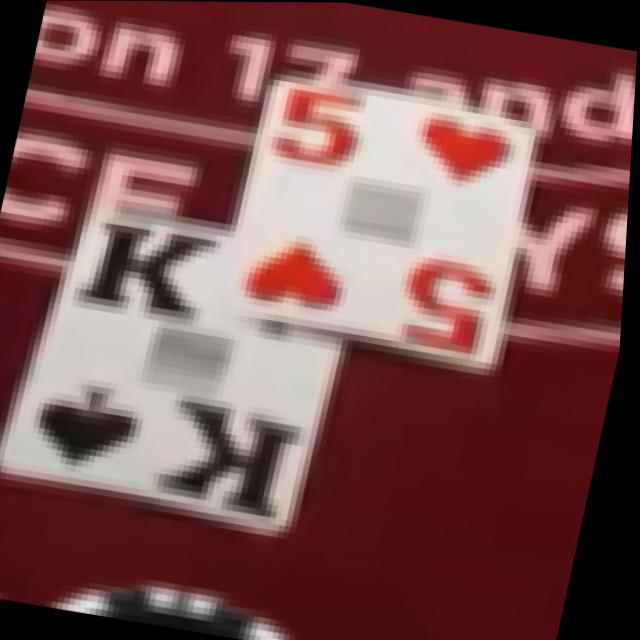Card-5: (225, 79, 537, 371)
Card-K: (6, 200, 345, 529)
